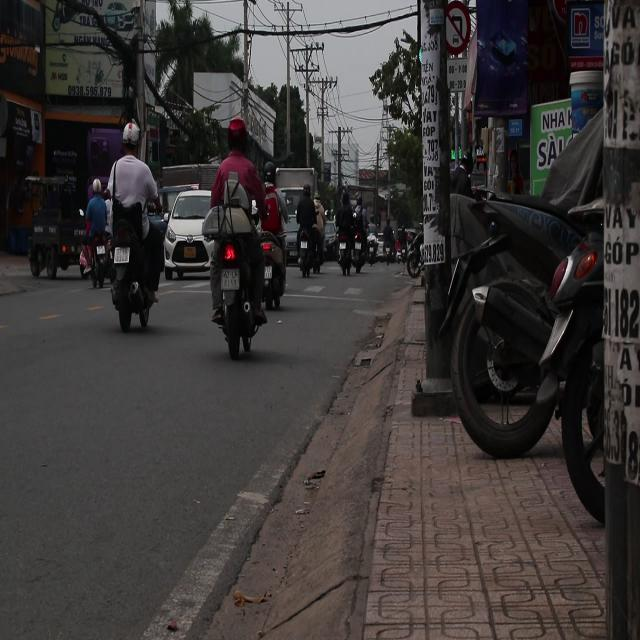car: (162, 190, 215, 278)
motorbike: (201, 206, 275, 360), (108, 221, 161, 334), (288, 206, 324, 295), (330, 209, 362, 286)
truck: (261, 160, 321, 285)
